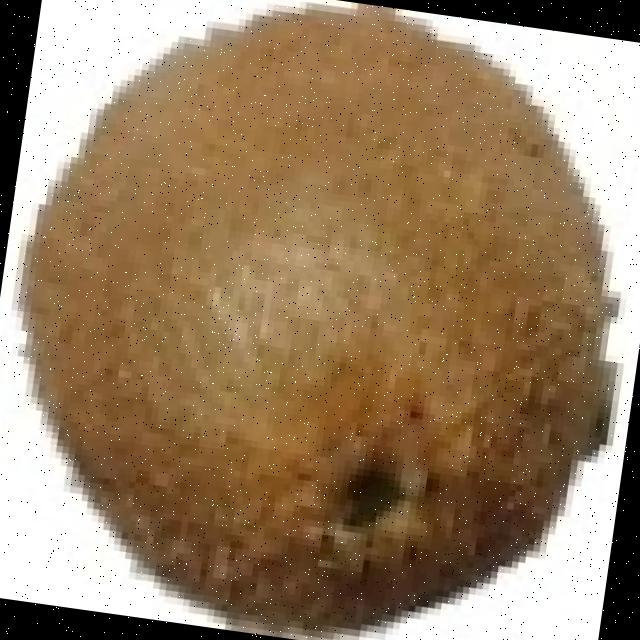kiwi: (14, 2, 600, 619)
